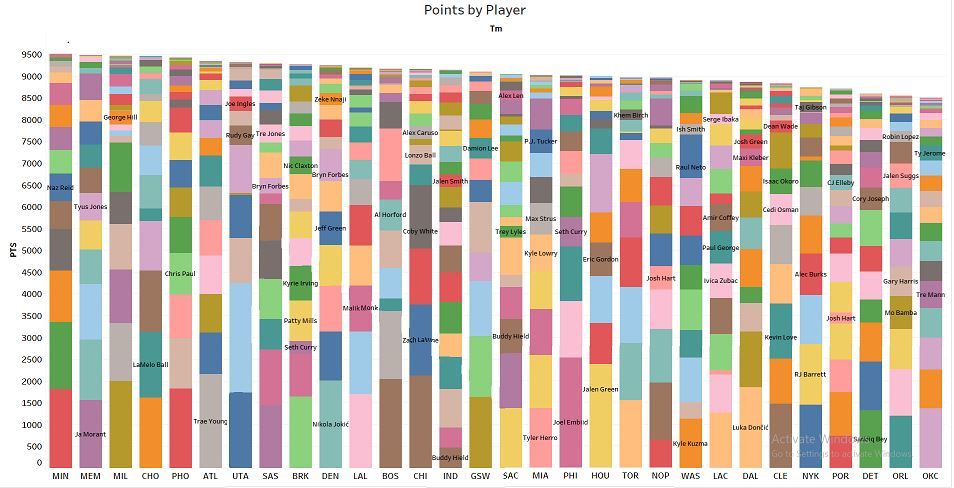

What the dashboard file says about the page in this screenshot:
{"tool":"tableau","page":{"name":"Picture","canvas":[1300,900],"ordinal":0},"visuals":[{"type":"image","param":"Image/perfect.JPG","box":[70,59,951,720]}]}

Visuals, with their boxes on the page's 1300x900 design canvas (x1, y1, x2, y2). These are canvas units, not pixel positions in the 954x488 screenshot, which may show the page scaled, cropped or inside an application window:
image: rect(70, 59, 1021, 779)
